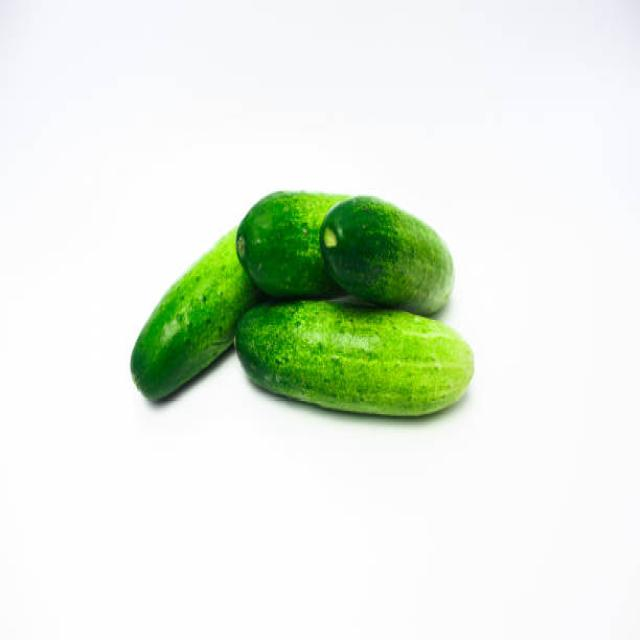cucumber: (235, 297, 474, 419), (129, 215, 261, 399), (320, 194, 454, 316), (238, 191, 362, 296)
